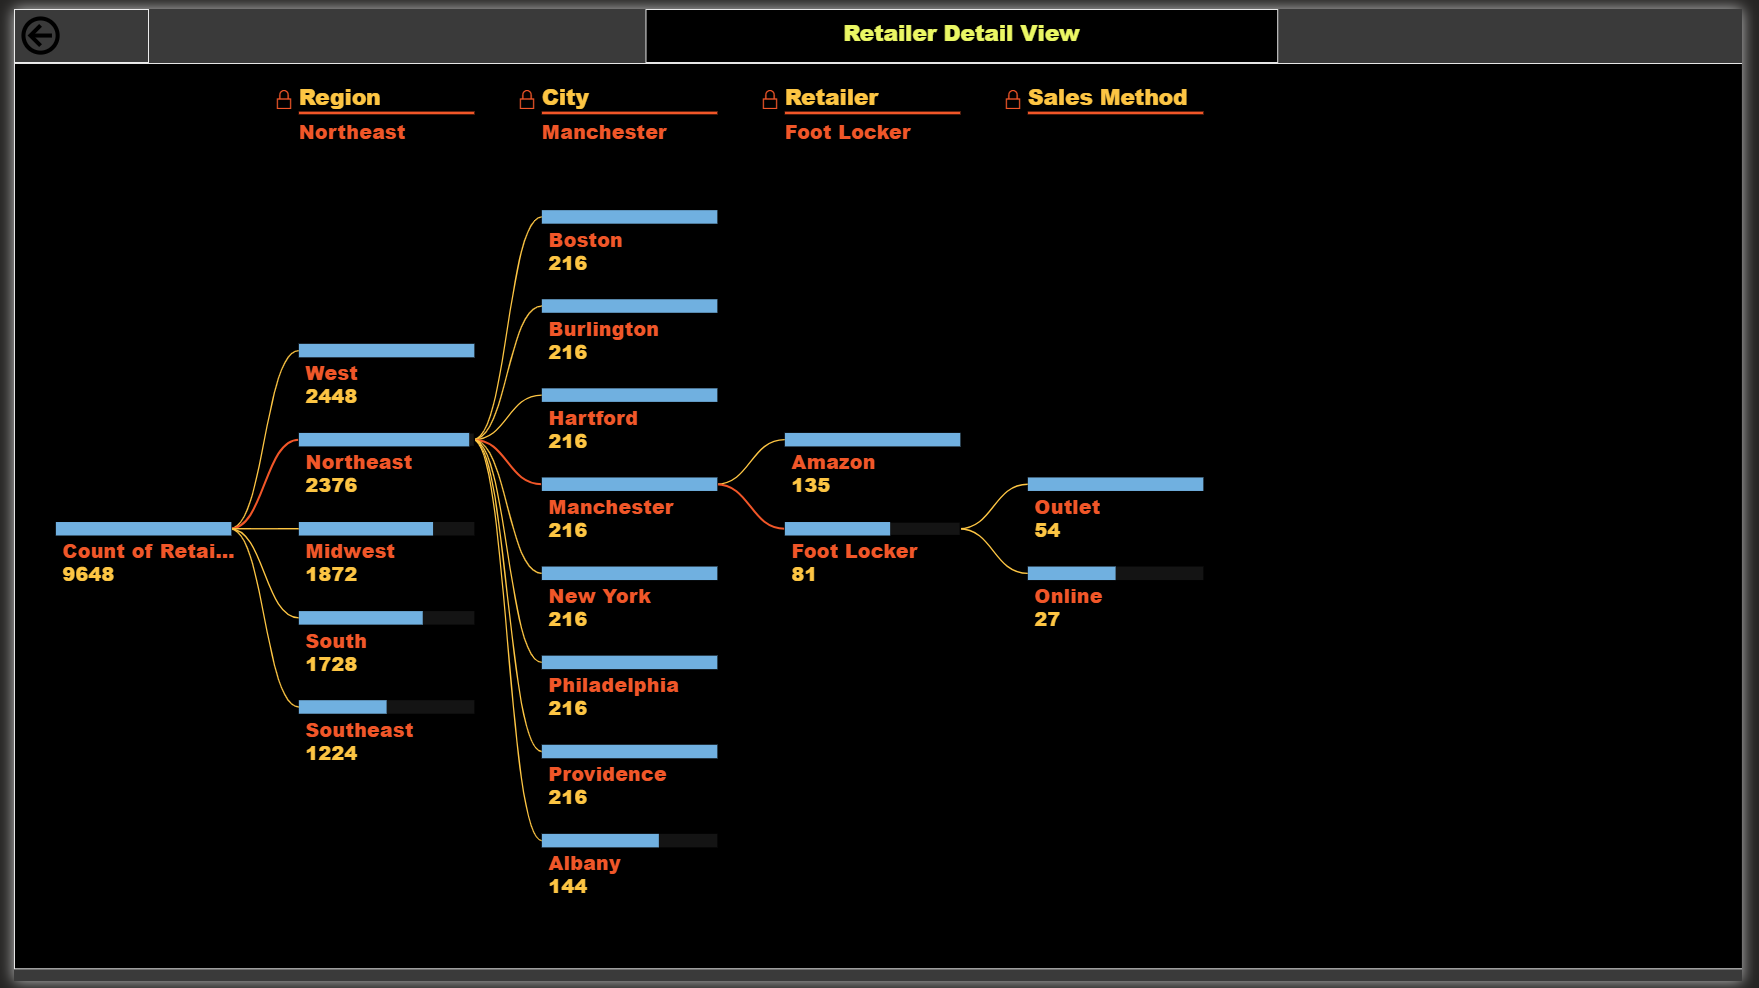

What the dashboard file says about the page in this screenshot:
{"tool":"powerbi","page":{"name":"Retailer Detail","canvas":[1280,720],"ordinal":4},"visuals":[{"type":"decompositionTreeVisual","fields":{"ExplainBy":["Data Sales Adidas.Region","Data Sales Adidas.City","Data Sales Adidas.Retailer","Data Sales Adidas.Sales Method"],"Analyze":["CountNonNull(Data Sales Adidas.Retailer)"]},"box":[0,40.1,1280.4,671],"z":0},{"type":"actionButton","box":[0,0,100,40],"z":1000},{"type":"textbox","box":[467.6,0,468.6,40.1],"z":1001}]}

Visuals, with their boxes in screenshot pixels (x1, y1, x2, y2), scaled from the page's 1280x720 canvas onto the 1759x988 screenshot:
decompositionTreeVisual - Data Sales Adidas.Region x Data Sales Adidas.City: <region>0, 55, 1758, 976</region>
actionButton: <region>0, 0, 137, 55</region>
textbox: <region>643, 0, 1287, 55</region>
